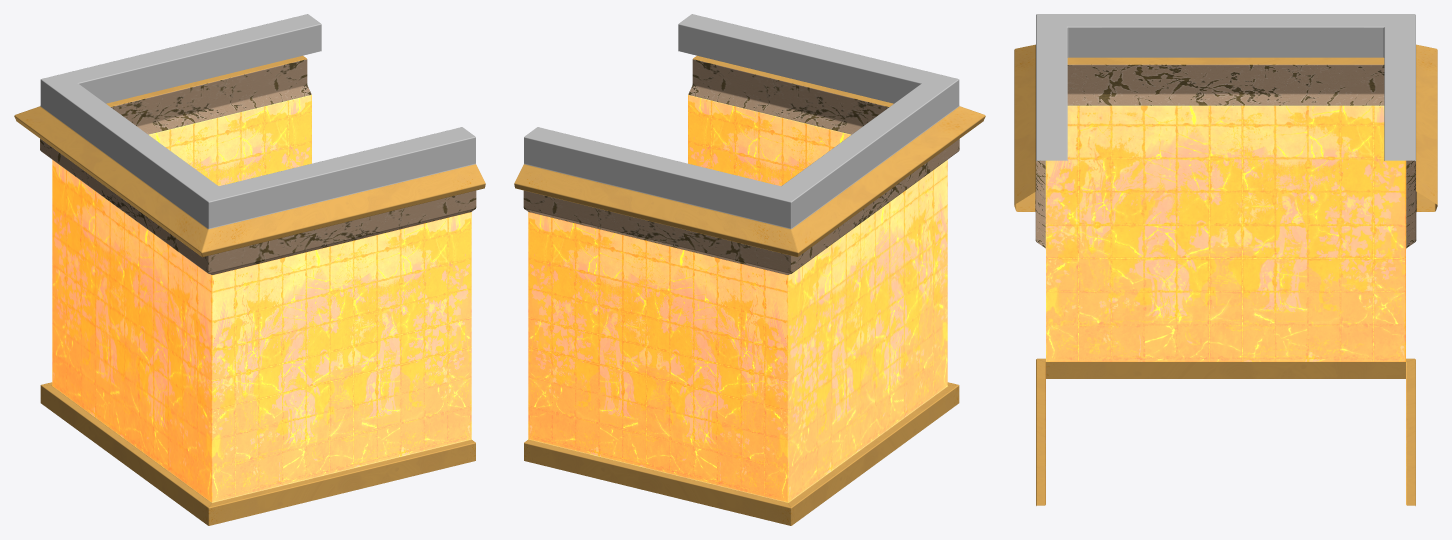
The model's file is SM_Floor_Beam_01_Corner_03.fbx.
The picture shows the model from 3 angles, left to right: view 1: azimuth 30°, elevation 25°; view 2: azimuth 150°, elevation 25°; view 3: azimuth 270°, elevation 25°; orthographic projection. The views are drawn at different scales.
Parts seen in each view (by area): view 1: SM_Floor_Beam_01_Corner_03_LOD0; view 2: SM_Floor_Beam_01_Corner_03_LOD0; view 3: SM_Floor_Beam_01_Corner_03_LOD0.
Boxes of the visible parts, bbox=[...] form: SM_Floor_Beam_01_Corner_03_LOD0: bbox=[14, 14, 485, 525]; SM_Floor_Beam_01_Corner_03_LOD0: bbox=[514, 14, 985, 525]; SM_Floor_Beam_01_Corner_03_LOD0: bbox=[1014, 14, 1437, 505].
Bounding box in the file's own units: 351 × 401 × 382.
